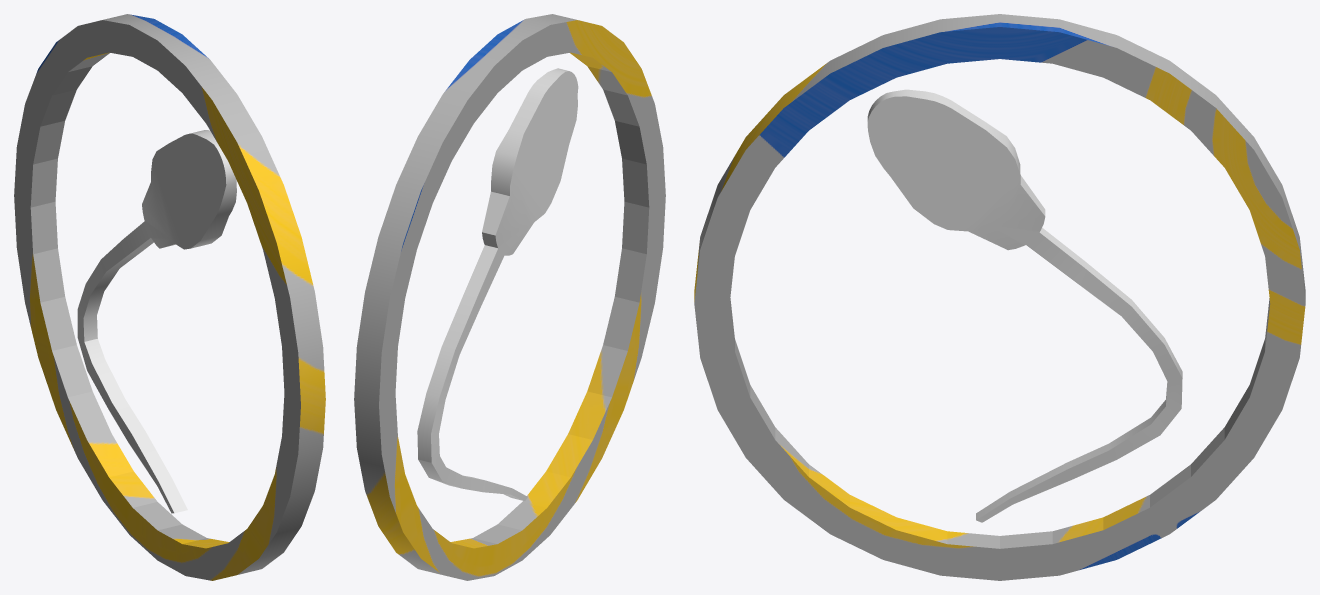
File: 6.1 sperma booster.fbx
3 views of the same model, side by side, from view 1: azimuth 30°, elevation 25°; view 2: azimuth 150°, elevation 25°; view 3: azimuth 270°, elevation 25° (orthographic). The views are drawn at different scales.
Parts seen in each view (by area): view 1: sperma booster, sperma; view 2: sperma booster, sperma; view 3: sperma booster, sperma.
Boxes of the visible parts, left/top/right/bottom form: sperma booster: left=14, top=14, right=325, bottom=580; sperma: left=77, top=130, right=236, bottom=513; sperma booster: left=354, top=14, right=665, bottom=580; sperma: left=417, top=68, right=578, bottom=500; sperma booster: left=694, top=14, right=1305, bottom=580; sperma: left=867, top=89, right=1182, bottom=522.
Bounding box in the file's own units: 10 × 200 × 200.
